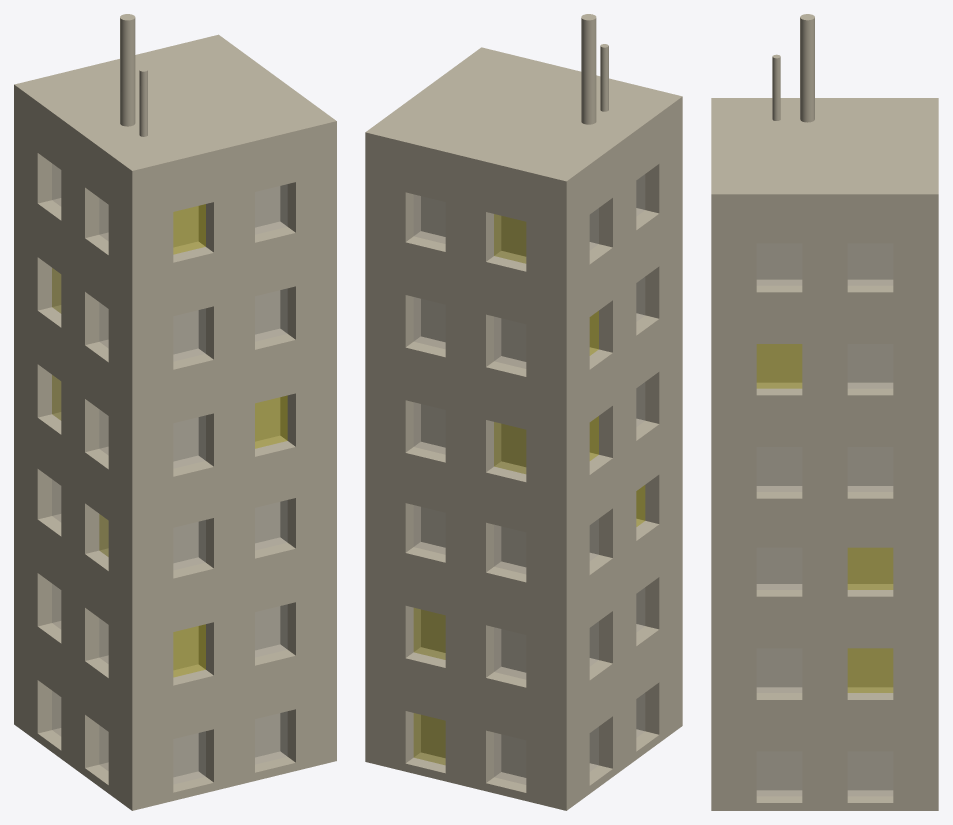
Rendered from Gabe Background Building.fbx.
The picture shows the model from 3 angles, left to right: view 1: azimuth 30°, elevation 25°; view 2: azimuth 150°, elevation 25°; view 3: azimuth 270°, elevation 25°; orthographic projection. The views are drawn at different scales.
Visible parts, largest first — view 1: polySurface1, polySurface23, pCylinder2, pCylinder1; view 2: polySurface1, polySurface23, pCylinder2, pCylinder1; view 3: polySurface1, polySurface23, pCylinder2, pCylinder1.
Part boxes in pixels (box(x1,y1,x2,y2)): polySurface1: box(14, 34, 336, 810); polySurface23: box(52, 164, 287, 783); pCylinder2: box(120, 14, 135, 126); pCylinder1: box(139, 68, 147, 136); polySurface1: box(365, 47, 682, 810); polySurface23: box(414, 175, 644, 784); pCylinder2: box(581, 14, 596, 124); pCylinder1: box(600, 44, 608, 111); polySurface1: box(711, 98, 938, 810); polySurface23: box(757, 244, 892, 795); pCylinder2: box(800, 14, 814, 122); pCylinder1: box(772, 54, 780, 120).
Size of the model in its own units: 10.55 by 36.75 by 10.55.
